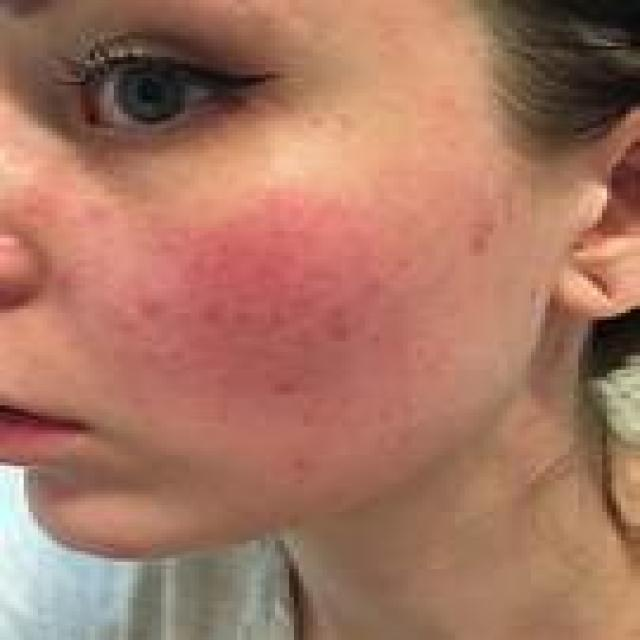Rosacea: (145, 236, 362, 384)
